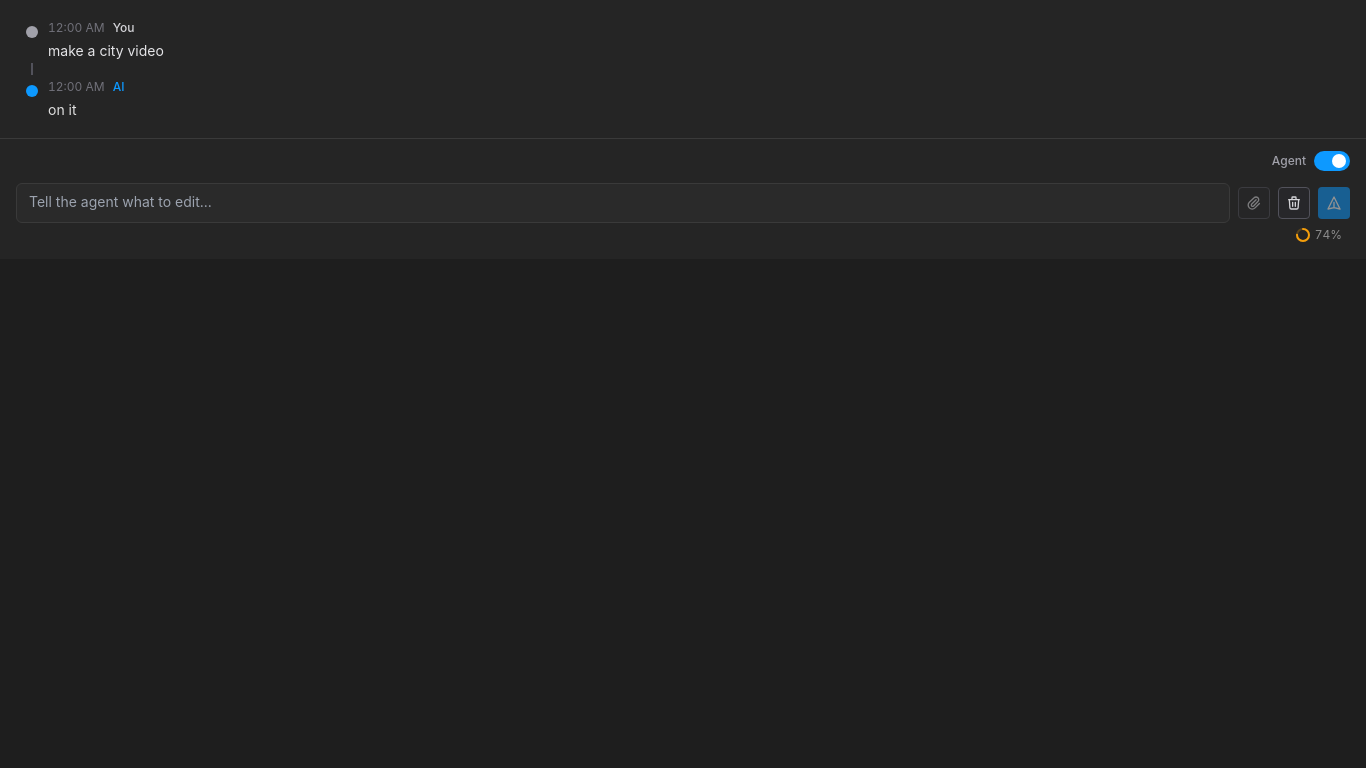
it: VideoChatWindow — context ring and /compact › the command appears in the "/" menu under its own heading
Step 1. Type "/" into the text box → [623, 202], box [16,182,1230,222]
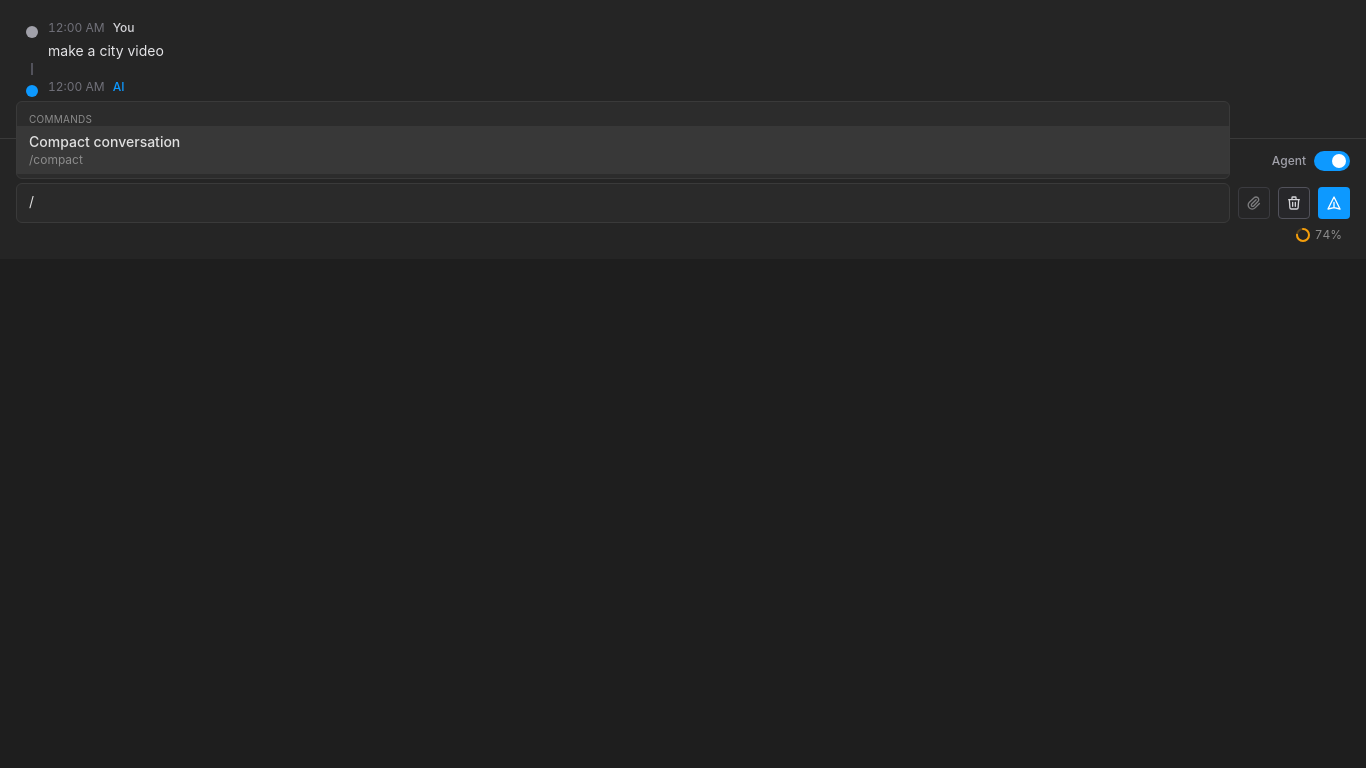
Check: the option "Compact conversation /compact" is shown, box [17,126,1229,174]
Check: the list item "Commands" is shown, box [29,112,92,124]
